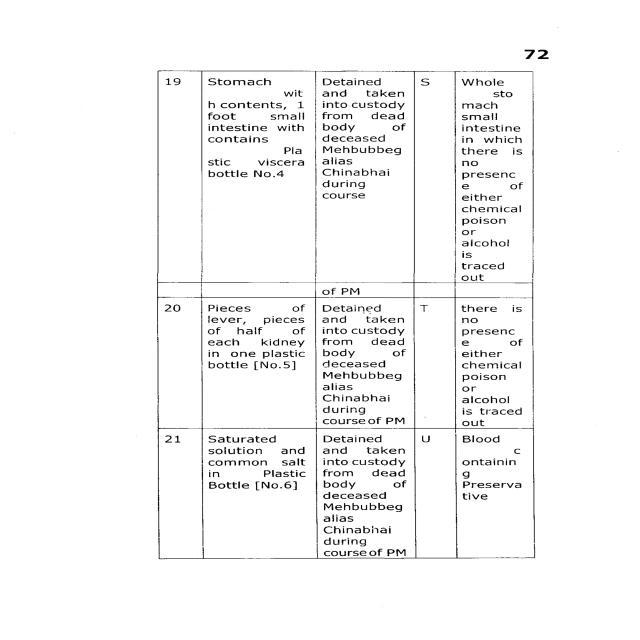page-number: (445, 0, 640, 70)
